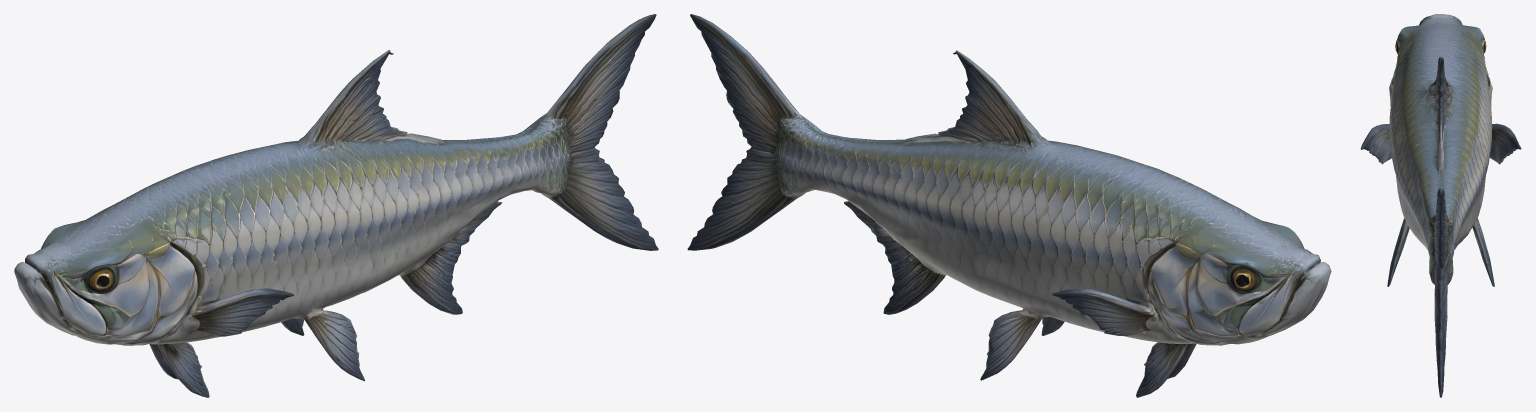
The model's file is fish-tarpon.glb.
The picture shows the model from 3 angles, left to right: view 1: azimuth 30°, elevation 25°; view 2: azimuth 150°, elevation 25°; view 3: azimuth 270°, elevation 25°; orthographic projection. The views are drawn at different scales.
Parts seen in each view (by area): view 1: tripo_node_a3c91952-c917-4286-a7df-23b00d765fed; view 2: tripo_node_a3c91952-c917-4286-a7df-23b00d765fed; view 3: tripo_node_a3c91952-c917-4286-a7df-23b00d765fed.
Part boxes in pixels (box(x1,y1,x2,y2)): tripo_node_a3c91952-c917-4286-a7df-23b00d765fed: box(14, 14, 658, 397); tripo_node_a3c91952-c917-4286-a7df-23b00d765fed: box(687, 14, 1331, 397); tripo_node_a3c91952-c917-4286-a7df-23b00d765fed: box(1360, 14, 1521, 397).
Size of the model in its own units: 1 by 0.4404 by 0.2538.
Materials: 1 (1 with a texture image).
